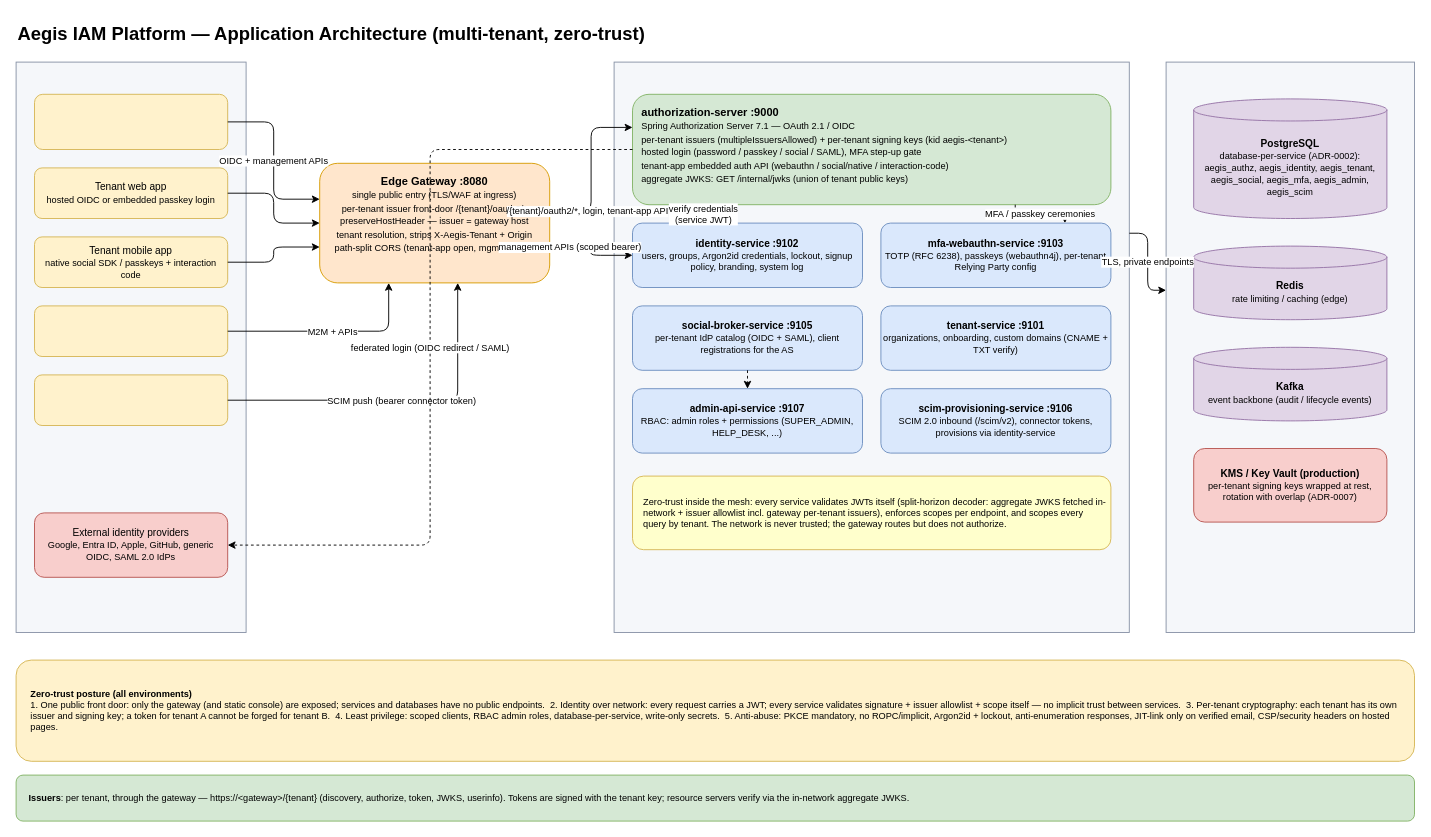
Image size: 1431x837. Some labels were removed from this diagram. The shapes that lost their labels are listed below. From the top down, each one's box as (x1, y1, x2, y2) in pixels, then its label:
(34, 93, 228, 150): Admin Console / End-user Portal React SPA — OIDC authorization_code + PKCE
(15, 61, 246, 632): Clients
(34, 305, 228, 356): Tenant SaaS backend client_credentials (M2M), management APIs
(613, 61, 1129, 632): Private service network — no direct public exposure
(1165, 61, 1414, 632): Data tier (private subnets / network)
(34, 374, 228, 426): Upstream IdP (Entra / Okta / Workday) SCIM 2.0 provisioning push
